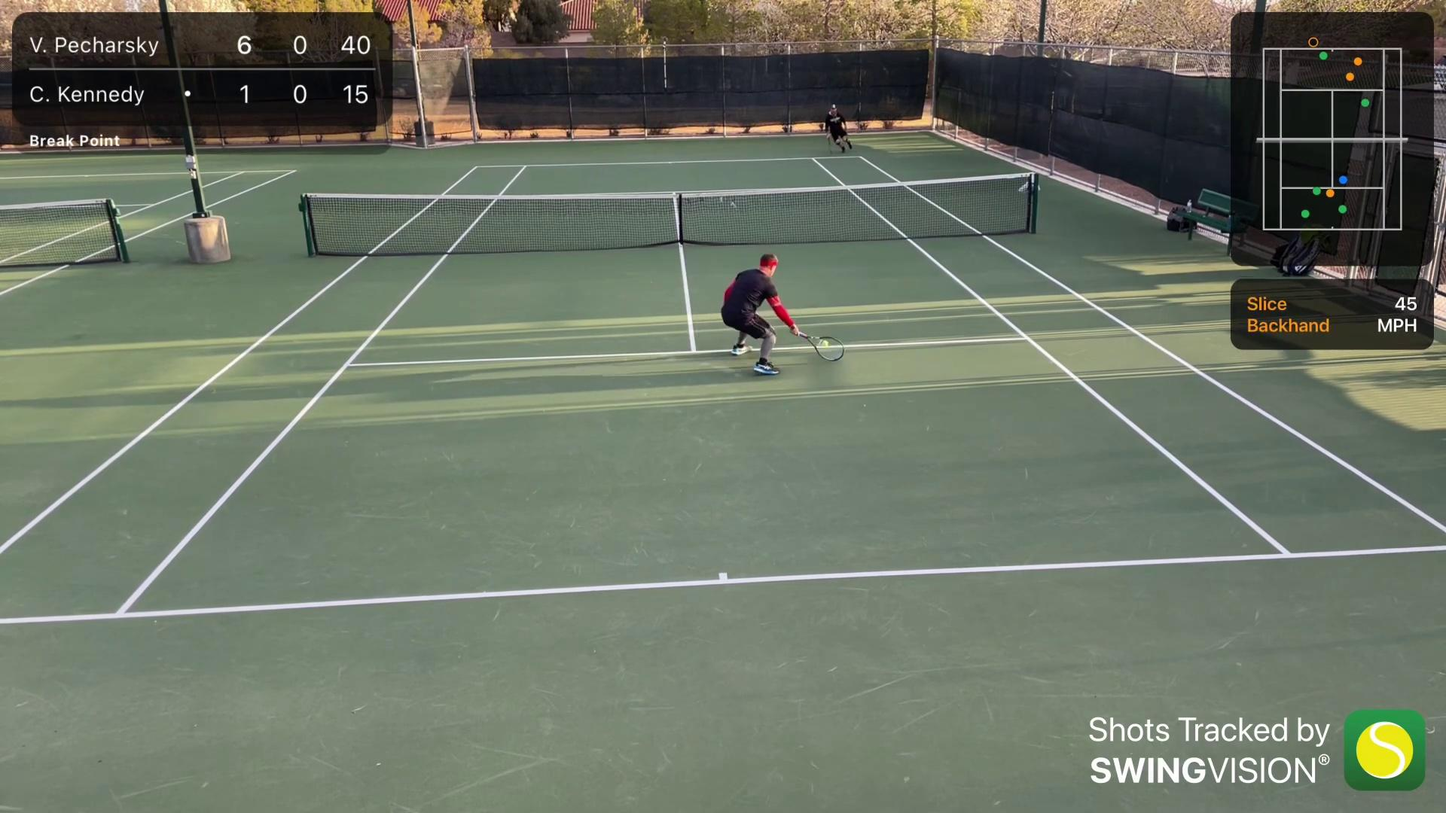ball: (821, 340, 832, 349)
